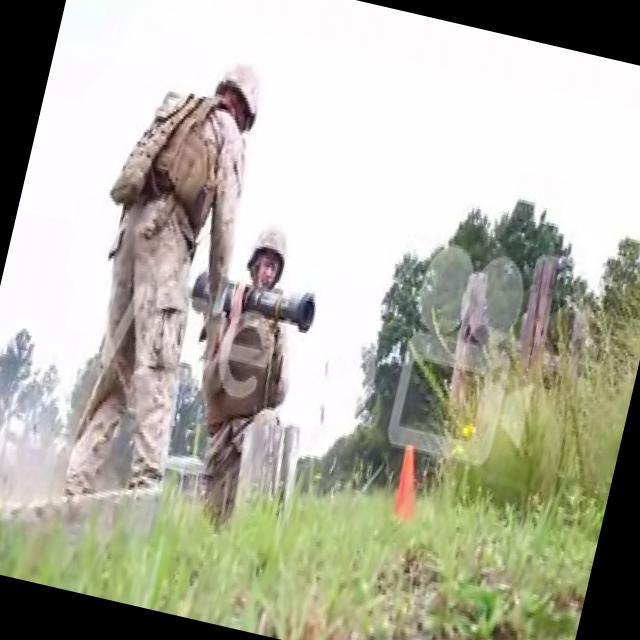rocket: (188, 266, 320, 332)
